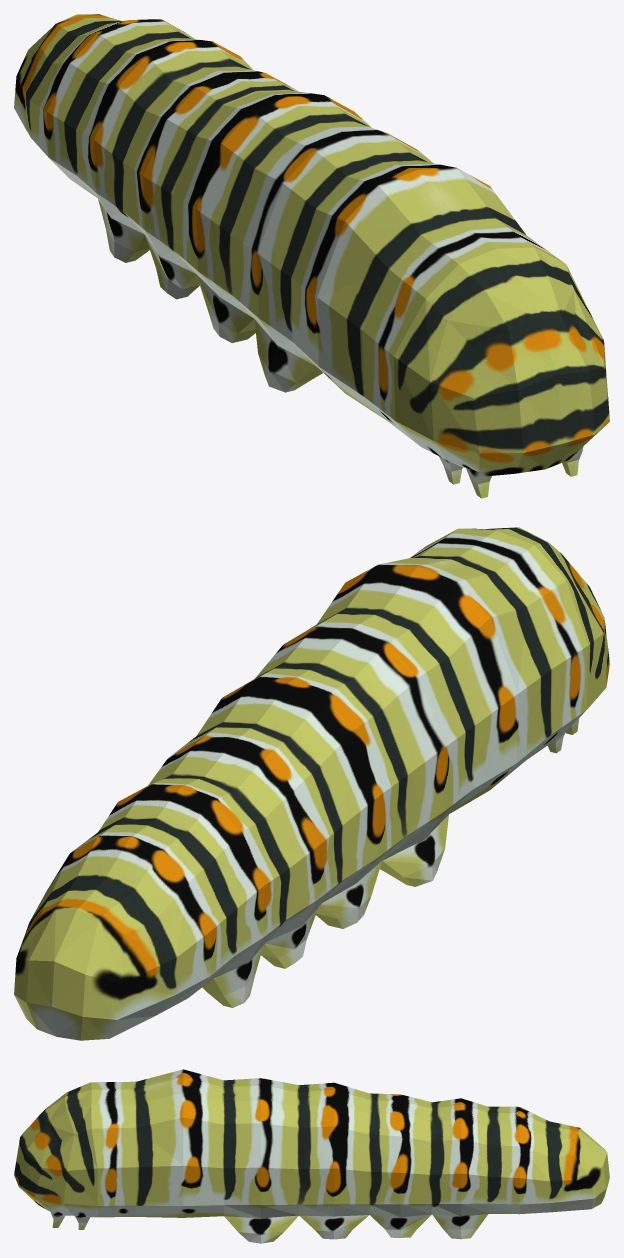
Rendered from Caterpillar-transformed.glb.
The picture shows the model from 3 angles, top to bottom: view 1: azimuth 30°, elevation 25°; view 2: azimuth 150°, elevation 25°; view 3: azimuth 270°, elevation 25°; orthographic projection. The views are drawn at different scales.
Parts seen in each view (by area): view 1: Node; view 2: Node; view 3: Node.
Part boxes in pixels (x1,y1,x2,y2): Node: [14, 14, 609, 498]; Node: [14, 527, 609, 1040]; Node: [14, 1069, 609, 1243].
Bounding box in the file's own units: 0.7987 × 0.9367 × 3.52.
Materials: 1 (1 with a texture image).
